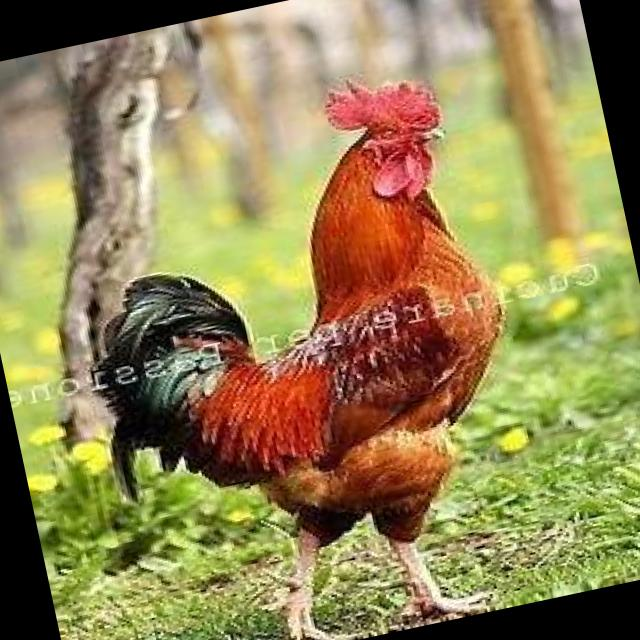chicken: (38, 54, 566, 640)
